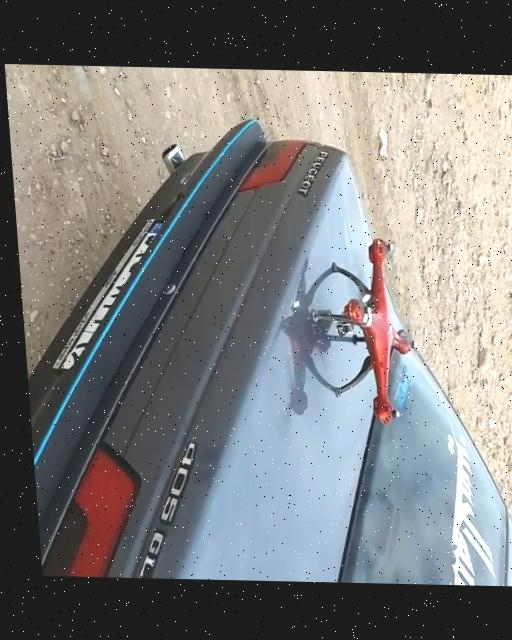drone: (300, 232, 418, 436)
